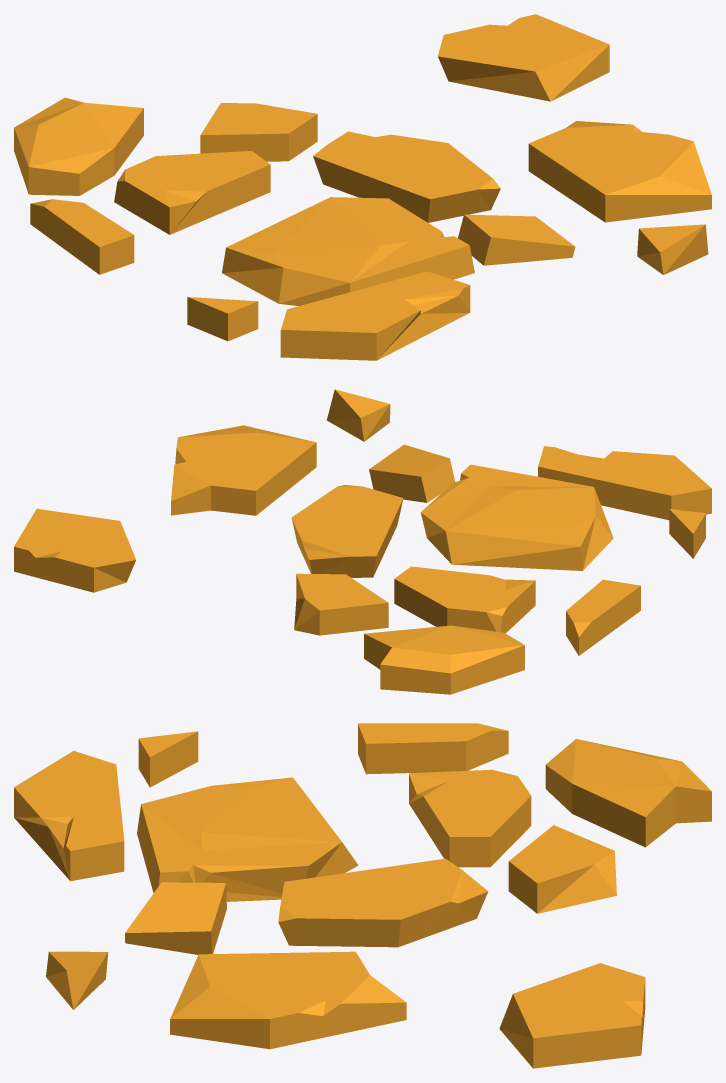
File: SM_Iceberg_Shards_Small_B_Plane.fbx
3 views of the same model, one above another, from view 1: azimuth 30°, elevation 25°; view 2: azimuth 150°, elevation 25°; view 3: azimuth 270°, elevation 25° (orthographic). The views are drawn at different scales.
Parts seen in each view (by area): view 1: iceberg-shards-small-b-plane; view 2: iceberg-shards-small-b-plane; view 3: iceberg-shards-small-b-plane.
Part boxes in pixels (<box>): iceberg-shards-small-b-plane: <box>14,14,711,360</box>; iceberg-shards-small-b-plane: <box>14,389,711,694</box>; iceberg-shards-small-b-plane: <box>14,723,711,1068</box>.
Bounding box in the file's own units: 1.78 × 0.1249 × 1.67.
